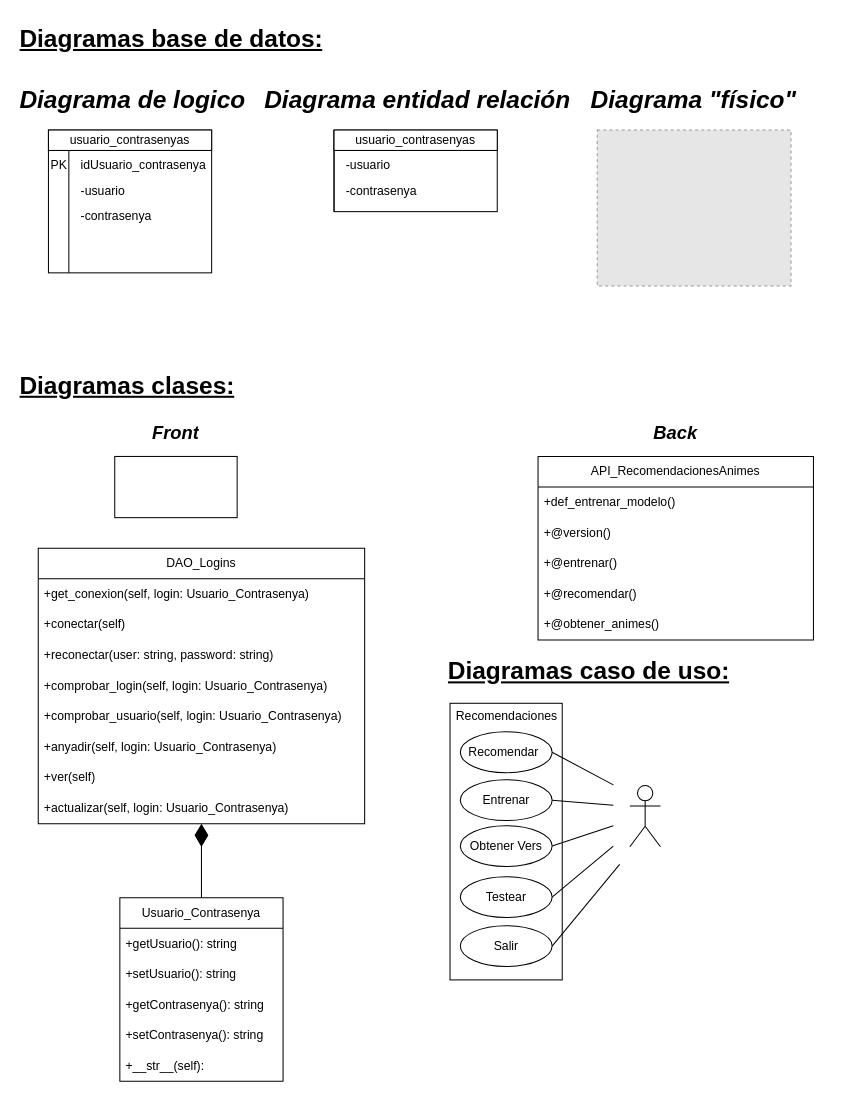
The diagram is 851 pixels wide and 1100 high, and some of its shapes have lost their labels. Grey dashed boxes stand in for pictures. Each missing label, with the centre of its shape:
"Admin" goes at [644,815].
"Main" goes at [175,486].
